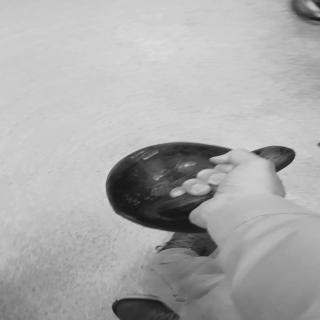girya: (110, 143, 298, 233)
